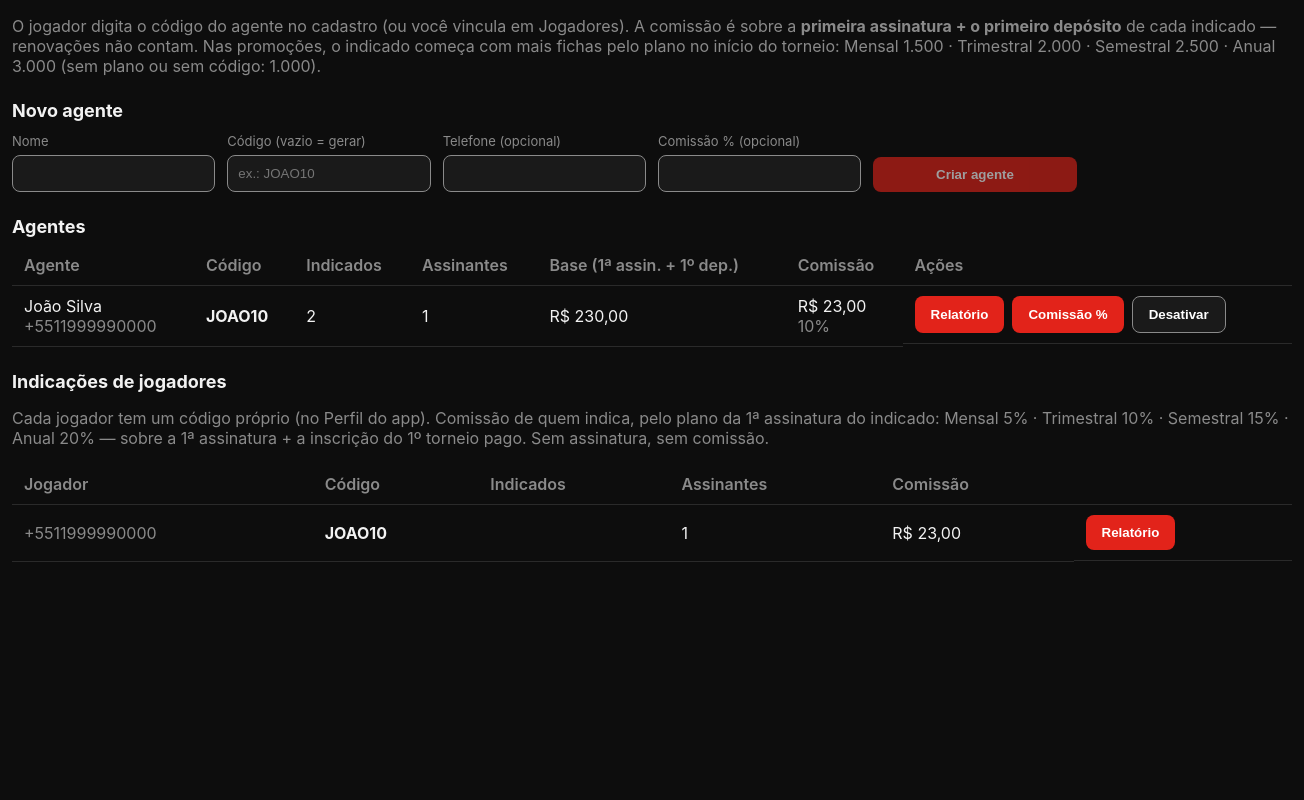
Scenario: Agents tab › opens an agent's report: first subscription, first deposit, base and commission
The image size is (1304, 800).
Click the button "Relatório" in the row of "João Silva" at (960, 314), box [915,296,1004,333]
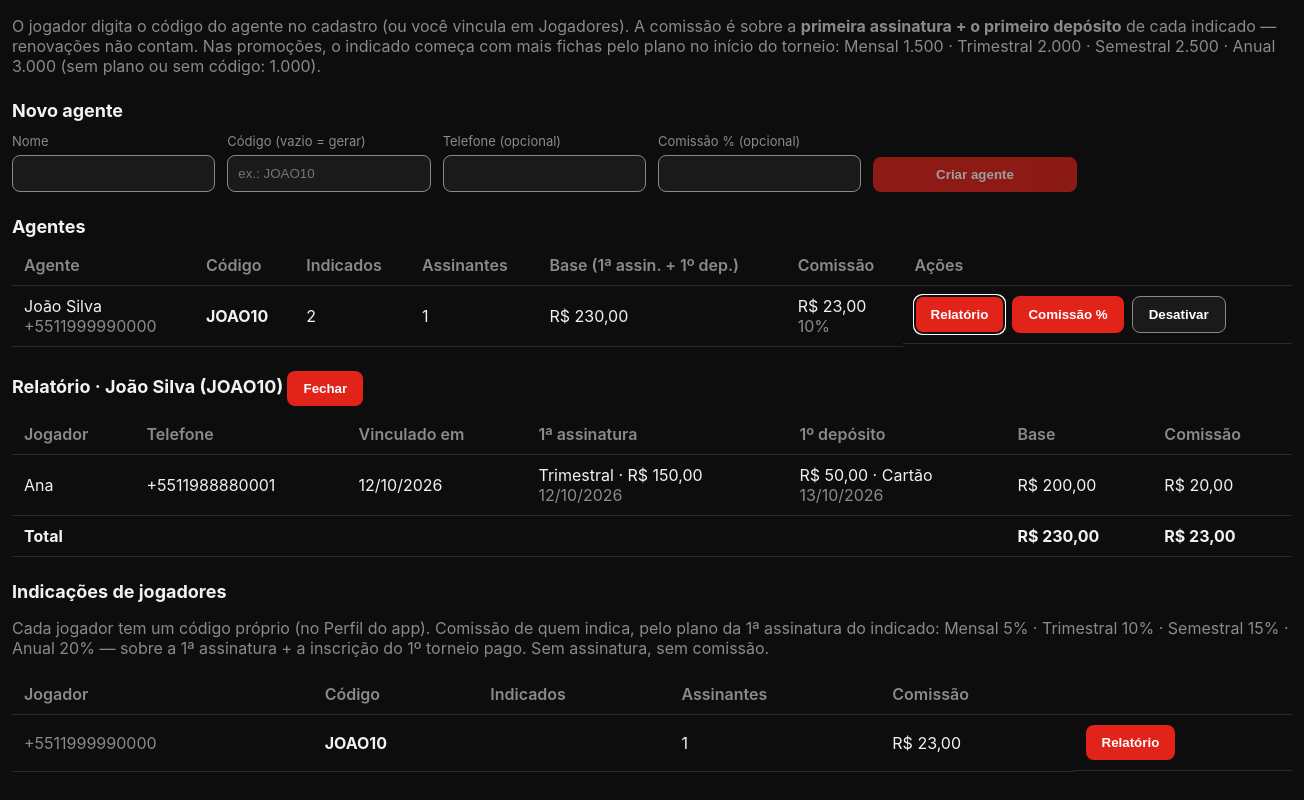
Check: the text "Trimestral · R$ 150,00 12/10/2026" is shown, box [526,454,788,516]
Check: the text "R$ 50,00 · Cartão 13/10/2026" is shown, box [788,454,1005,516]
Check: the text "R$ 200,00" is shown, box [1005,454,1152,516]
